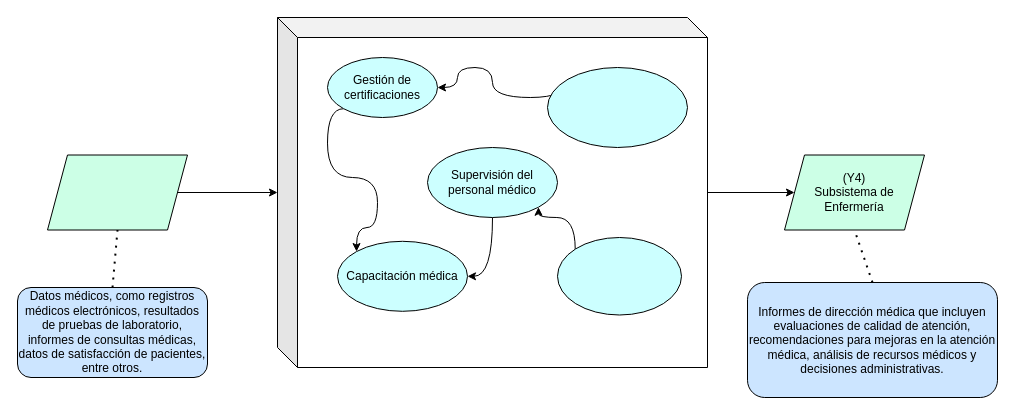
This 1015x415 diagram has some shape labels left out. Each missing label, with the centre of its shape:
"(X4)" goes at pixel 117 192.
"Desarrollo de nuevos procedimientos médicos" goes at pixel 617 107.
"Evaluación de desempeño médico" goes at pixel 619 275.
